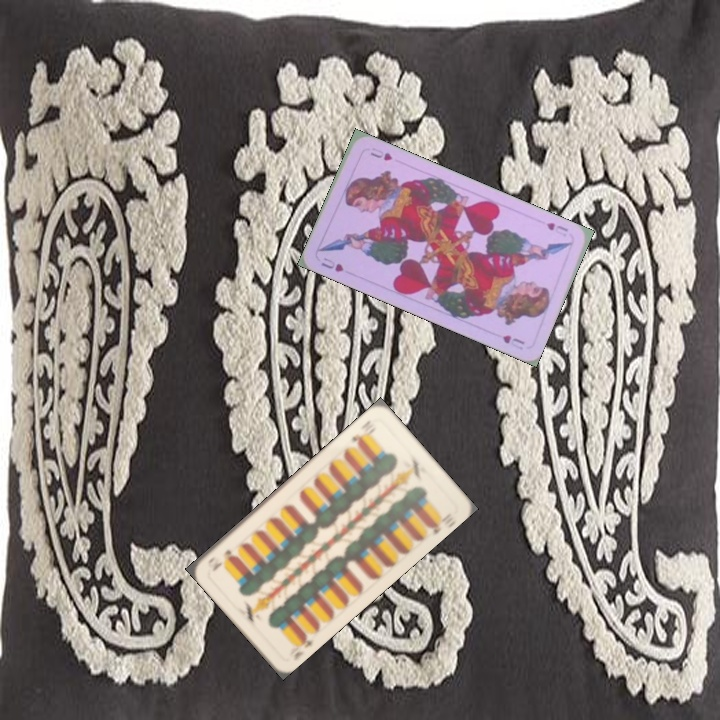E10: (289, 630, 316, 663), (346, 419, 376, 447)
HU: (317, 253, 346, 275), (542, 218, 571, 239)
